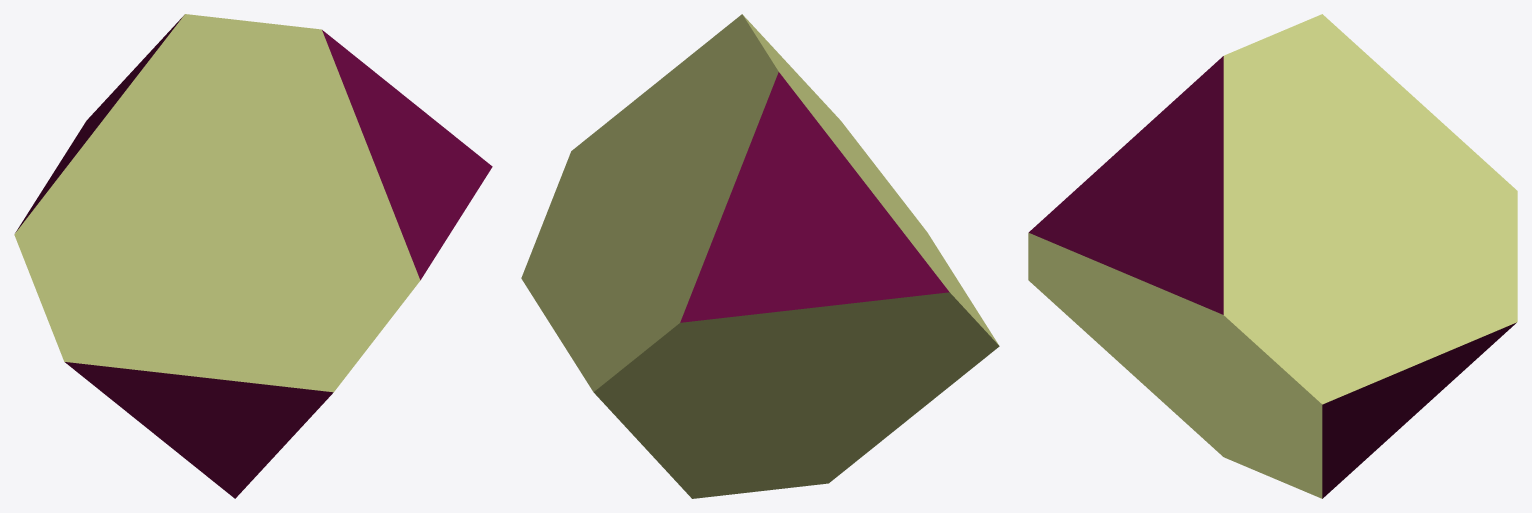
File: t-tetrahedron.fbx
3 renders of one model, left to right at view 1: azimuth 30°, elevation 25°; view 2: azimuth 150°, elevation 25°; view 3: azimuth 270°, elevation 25°, orthographic.
Parts seen in each view (by area): view 1: polyhedronisme-tT; view 2: polyhedronisme-tT; view 3: polyhedronisme-tT.
Part boxes in pixels (left/top/right/bottom): polyhedronisme-tT: left=14, top=14, right=492, bottom=498; polyhedronisme-tT: left=521, top=14, right=999, bottom=498; polyhedronisme-tT: left=1028, top=14, right=1517, bottom=498.
Size of the model in its own units: 192 by 192 by 192.
